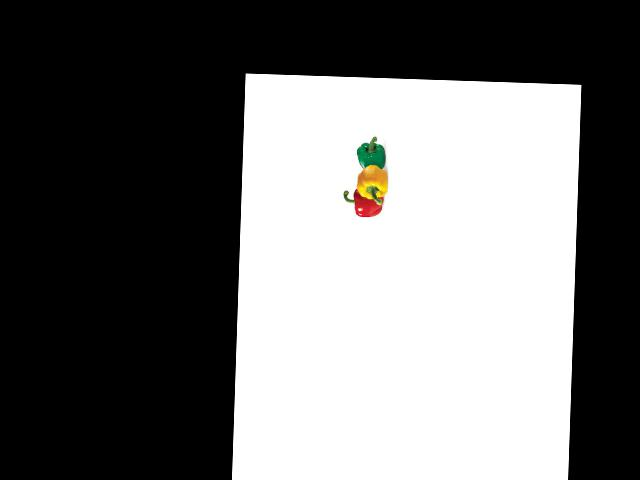bell_pepper: (353, 137, 389, 173)
